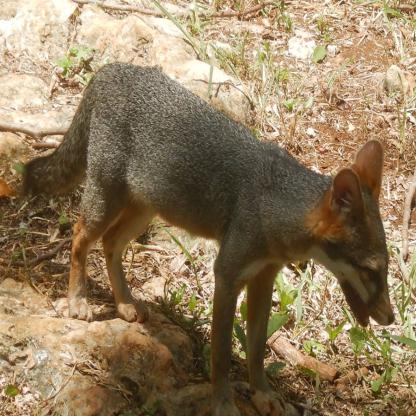zorro: (15, 58, 398, 416)
